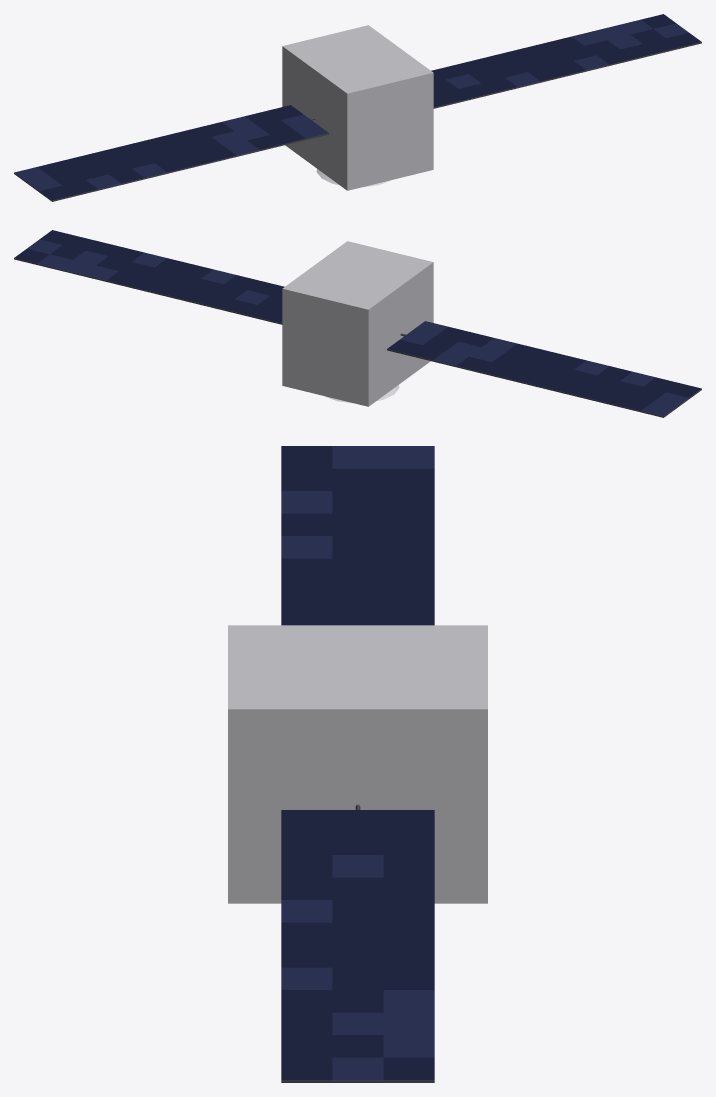
File: gen-box-xl.obj
The picture shows the model from 3 angles, top to bottom: view 1: azimuth 30°, elevation 25°; view 2: azimuth 150°, elevation 25°; view 3: azimuth 270°, elevation 25°; orthographic projection. The views are drawn at different scales.
Visible parts, largest first — view 1: gen-box-xl; view 2: gen-box-xl; view 3: gen-box-xl.
Boxes of the visible parts, x1,y1,x2,y2 form: gen-box-xl: [14, 14, 701, 201]; gen-box-xl: [14, 230, 701, 417]; gen-box-xl: [228, 446, 487, 1082].
Size of the model in its own units: 19.6 by 3.41 by 3.4.
